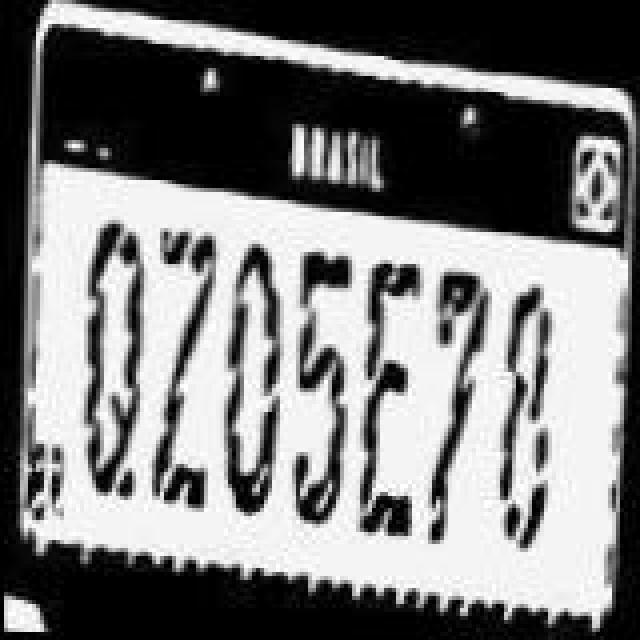5: (284, 248, 356, 536)
7: (422, 266, 490, 542)
8: (486, 278, 558, 554)
E: (350, 248, 418, 540)
O: (212, 230, 284, 518)
Q: (72, 218, 144, 502)
Z: (146, 224, 214, 504)
